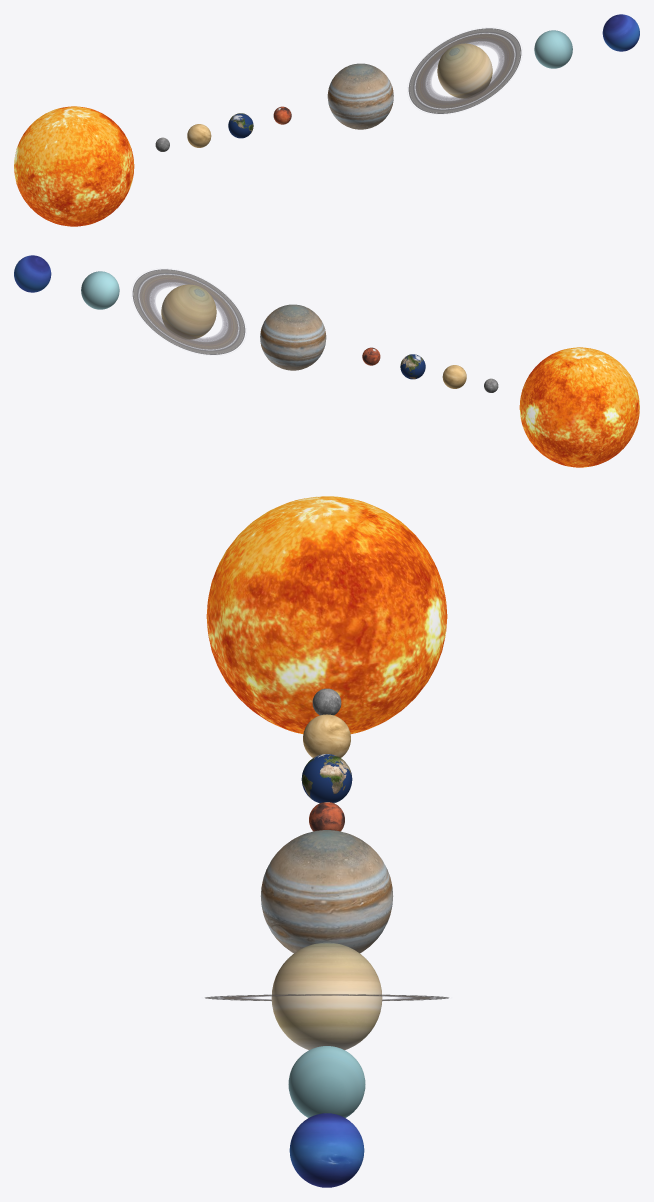
Rendered from solar_system.glb.
3 views of the same model, one above another, from view 1: azimuth 30°, elevation 25°; view 2: azimuth 150°, elevation 25°; view 3: azimuth 270°, elevation 25° (orthographic). The views are drawn at different scales.
Parts seen in each view (by area): view 1: sun, rings, jupiter, saturn, uranus, neptune, earth, venus; view 2: sun, rings, jupiter, saturn, uranus, neptune, earth, venus; view 3: sun, jupiter, saturn, uranus, neptune, earth, venus.
Boxes of the visible parts, x1,y1,x2,y2 form: sun: (14, 106, 134, 226); rings: (408, 28, 521, 113); jupiter: (327, 63, 393, 129); saturn: (437, 43, 492, 98); uranus: (534, 30, 572, 68); neptune: (602, 14, 639, 51); earth: (228, 113, 253, 138); venus: (187, 124, 211, 147); sun: (519, 347, 639, 467); rings: (132, 269, 245, 354); jupiter: (260, 304, 326, 370); saturn: (161, 284, 216, 339); uranus: (81, 271, 119, 309); neptune: (14, 255, 51, 292); earth: (400, 354, 425, 379); venus: (442, 365, 466, 388); sun: (206, 496, 447, 733); jupiter: (260, 830, 393, 953); saturn: (271, 942, 382, 1049); uranus: (288, 1046, 365, 1117); neptune: (289, 1113, 364, 1187); earth: (301, 754, 352, 803); venus: (303, 714, 350, 757).
Bounding box in the file's own units: 1.18 × 0.2 × 0.2088.
10 materials, 10 textured.
